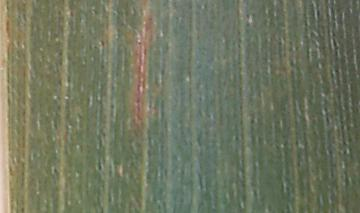tarspot: (96, 157, 103, 172), (314, 8, 321, 22), (248, 117, 257, 126), (244, 11, 251, 22), (68, 9, 75, 19), (51, 166, 59, 174), (99, 38, 106, 47), (233, 133, 240, 142), (197, 94, 204, 103), (56, 8, 63, 17), (109, 101, 115, 111), (333, 68, 341, 75), (99, 63, 105, 71), (136, 40, 143, 46), (146, 16, 153, 22)
